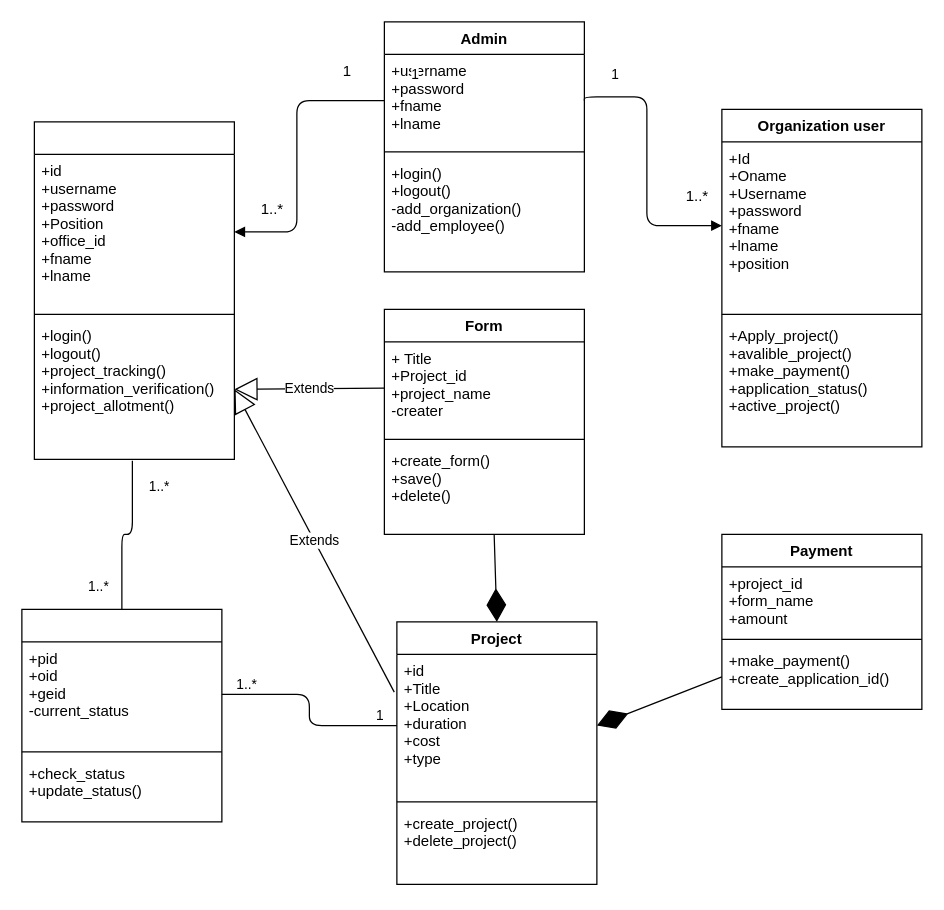
This 944x910 diagram has some shape labels left out. Here are the shapes that lost their labels. From the top down, the box of each, then its label:
(33, 121, 234, 459): Goverment employee
(21, 608, 222, 822): Tracking
